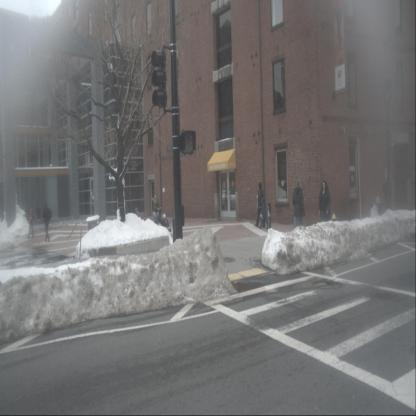human-pedestrian-adult: (293, 180, 305, 242), (318, 181, 330, 238), (255, 183, 265, 228), (43, 203, 52, 242), (153, 194, 162, 232), (134, 208, 142, 238), (28, 209, 34, 238)
